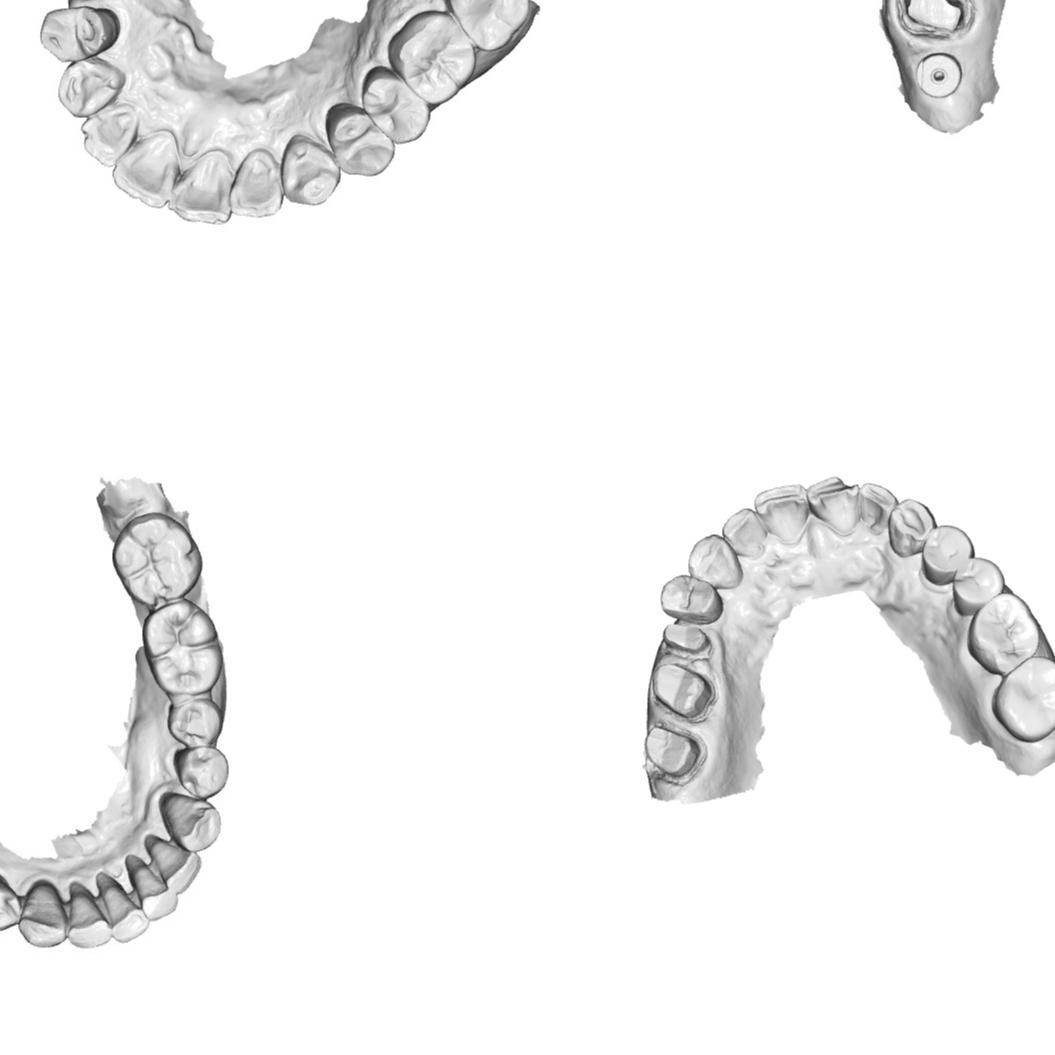canine: (54, 54, 128, 118), (278, 133, 342, 206), (14, 882, 66, 949), (686, 532, 744, 590), (159, 790, 217, 847), (887, 498, 938, 560)
crown: (640, 722, 708, 788), (648, 662, 720, 724), (898, 0, 975, 41), (660, 622, 716, 662)
implant: (915, 51, 963, 97)
incisor: (110, 133, 182, 208), (170, 148, 232, 226), (81, 98, 142, 165), (227, 148, 282, 218), (753, 480, 809, 544), (805, 475, 861, 536), (144, 836, 202, 890), (100, 872, 144, 939), (66, 881, 110, 946), (720, 504, 768, 560), (131, 857, 177, 913), (857, 480, 898, 536)
molar: (387, 7, 476, 105), (140, 602, 227, 697), (116, 513, 194, 602), (966, 590, 1042, 677), (991, 655, 1055, 743), (439, 0, 532, 53)
premolar: (324, 100, 397, 178), (360, 63, 429, 145), (35, 4, 120, 65), (657, 572, 724, 626), (950, 555, 1006, 618), (920, 522, 975, 586), (172, 742, 230, 796), (169, 696, 223, 745), (0, 872, 19, 934)
